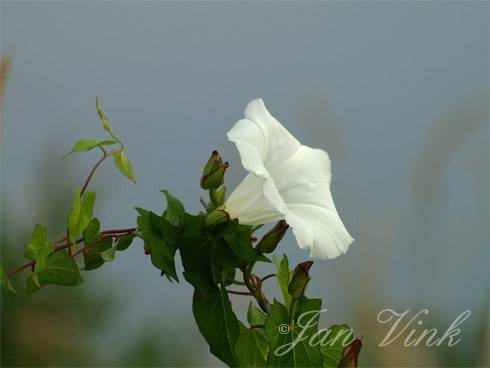haagwinde: (193, 80, 381, 281), (59, 85, 141, 220)
